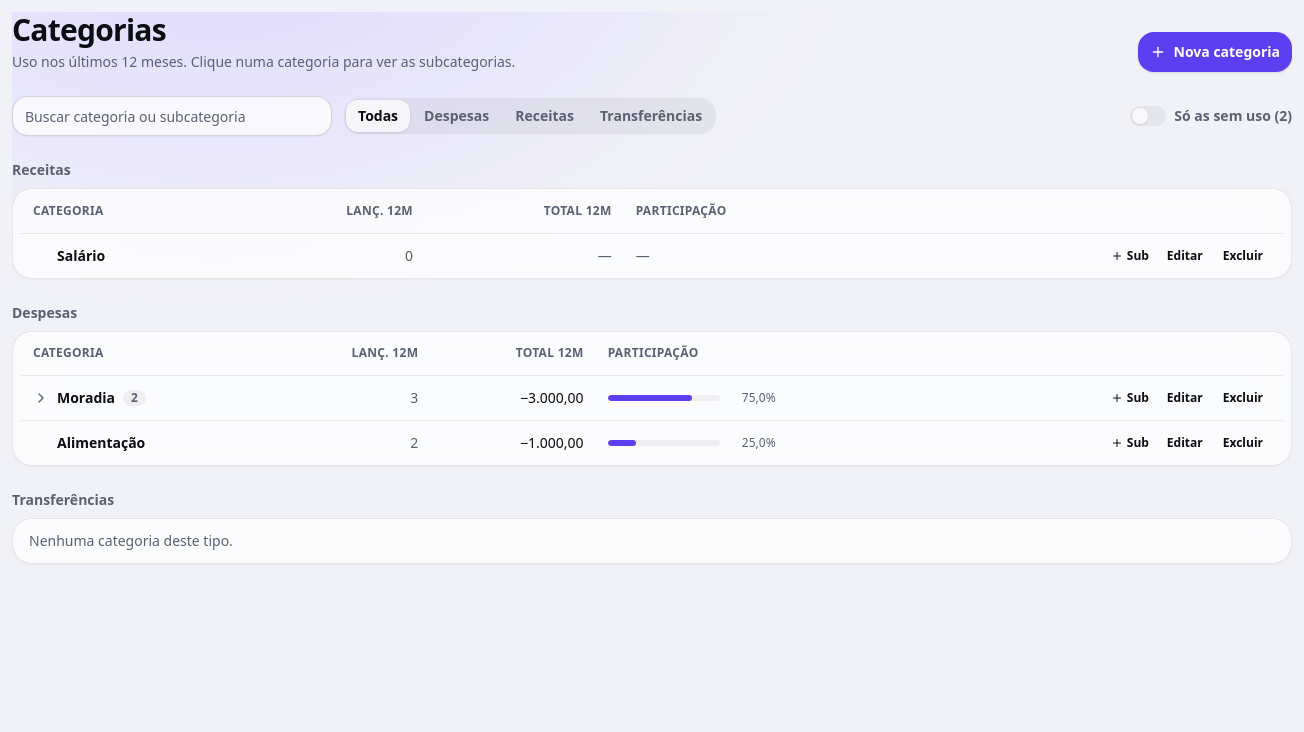
it: CategoriesPage › leaves only unused categories when asked
The width and height of the screenshot is (1304, 732).
Expected: the text "Moradia" is shown, [57, 388, 115, 408]
Click the switch labelled "Só as sem uso (2)": x=1211, y=116 [1130, 106, 1292, 126]
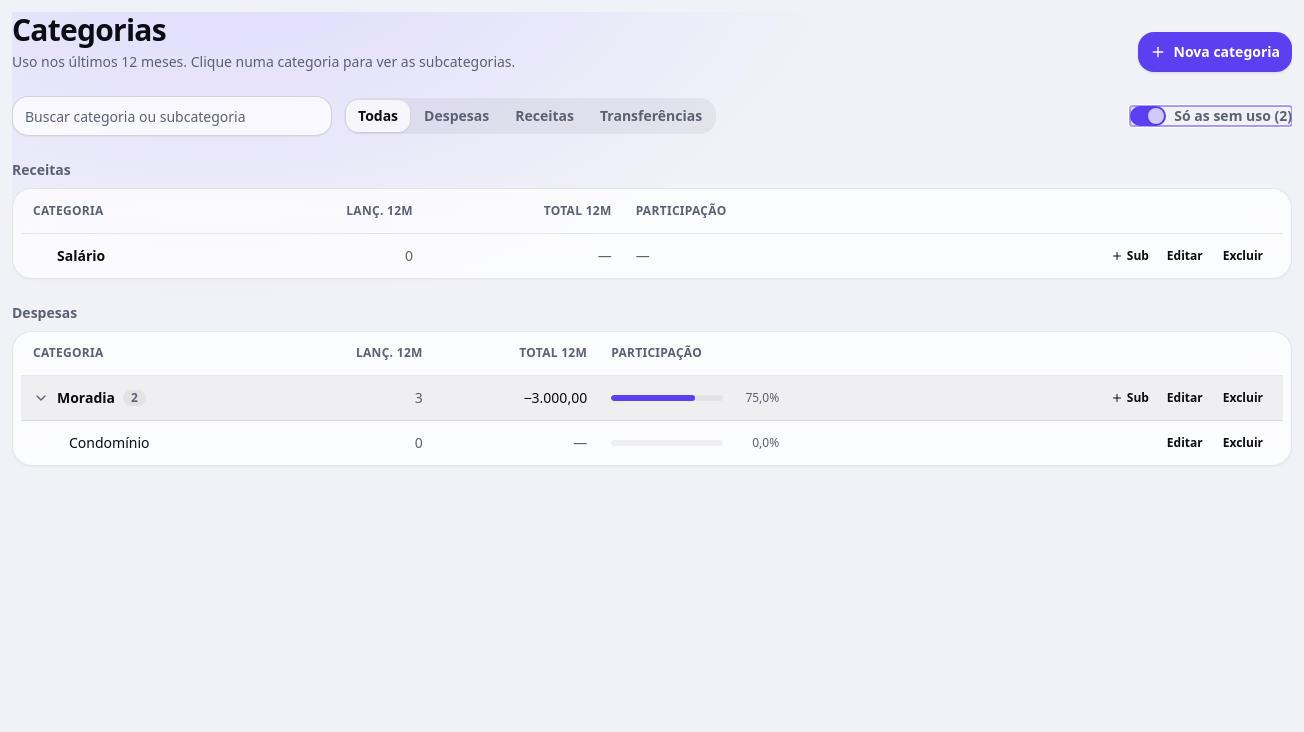
Expected: the text "Salário" is shown, [57, 246, 105, 266]
Expected: the text "Condomínio" is shown, [69, 433, 150, 452]
Expected: the text "Alimentação" is gone
